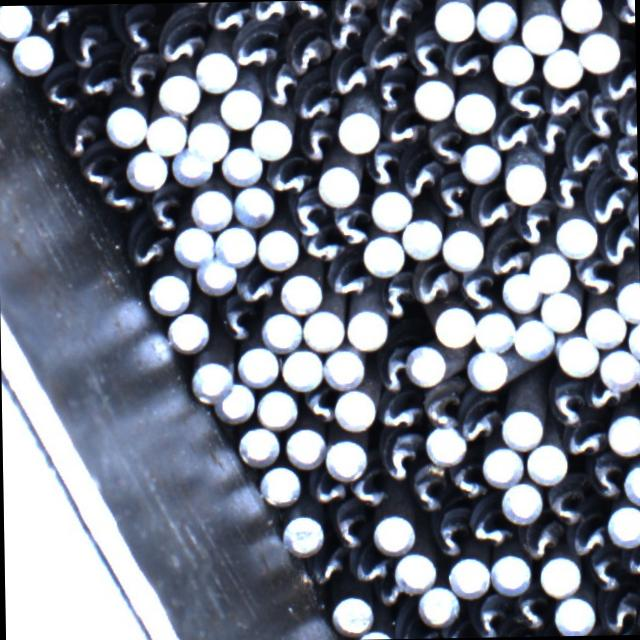tool: (278, 514, 326, 560), (186, 359, 234, 404), (253, 226, 301, 271), (554, 330, 599, 376), (10, 30, 55, 76), (102, 103, 147, 148), (335, 108, 380, 153), (188, 188, 232, 234), (402, 342, 446, 387), (373, 511, 417, 556), (328, 593, 372, 638), (369, 186, 412, 232), (248, 119, 294, 162), (489, 42, 536, 84), (124, 148, 168, 192), (392, 548, 436, 592), (194, 48, 238, 92), (503, 159, 546, 203), (464, 346, 508, 389), (432, 302, 474, 347), (598, 347, 640, 392), (452, 90, 495, 133), (577, 29, 620, 72), (157, 72, 200, 115), (441, 227, 484, 270), (317, 162, 360, 205), (167, 313, 210, 356), (538, 288, 580, 332), (280, 346, 322, 390), (555, 213, 597, 257), (528, 248, 570, 292), (360, 232, 402, 276), (236, 344, 280, 386), (552, 594, 596, 636), (217, 144, 262, 185), (511, 316, 553, 359), (412, 75, 454, 118), (195, 256, 238, 298), (322, 346, 364, 389), (237, 424, 280, 466), (147, 271, 189, 314), (172, 223, 214, 266), (144, 111, 185, 155), (214, 381, 255, 425), (499, 269, 539, 314), (539, 46, 581, 88), (260, 308, 302, 350), (518, 10, 560, 52), (302, 308, 344, 350), (584, 304, 626, 346), (255, 386, 297, 428), (219, 86, 261, 128), (400, 216, 442, 258), (186, 116, 228, 158), (499, 407, 542, 448), (447, 555, 490, 596), (333, 387, 374, 430), (474, 308, 514, 352), (344, 310, 388, 350), (525, 442, 566, 484), (501, 480, 542, 522), (214, 223, 255, 265), (258, 464, 300, 505), (490, 552, 531, 594), (282, 425, 322, 468), (279, 272, 319, 315), (234, 182, 274, 225), (537, 554, 580, 594), (324, 436, 365, 477), (481, 444, 523, 484), (475, 0, 517, 40), (433, 0, 475, 40), (424, 426, 466, 466), (604, 503, 640, 548), (460, 140, 500, 180), (418, 584, 458, 624), (171, 148, 212, 186), (605, 411, 640, 454), (559, 0, 602, 30), (614, 276, 640, 320), (0, 5, 32, 40), (622, 460, 640, 502)
tool_b: (124, 214, 167, 270), (64, 18, 112, 68), (160, 9, 202, 66), (282, 22, 328, 72), (562, 416, 612, 462), (469, 498, 511, 552), (484, 228, 530, 277), (228, 20, 276, 66), (376, 430, 423, 476), (119, 50, 160, 101), (378, 271, 418, 323), (471, 182, 516, 228), (329, 198, 372, 246), (116, 2, 158, 50), (286, 190, 328, 238), (216, 296, 258, 344), (584, 454, 626, 502), (568, 255, 616, 297), (584, 176, 626, 224), (328, 52, 373, 96), (413, 260, 456, 306), (327, 505, 373, 548), (80, 138, 118, 190), (434, 170, 472, 222), (144, 183, 186, 230), (583, 92, 624, 140), (401, 147, 438, 200), (458, 400, 502, 444), (516, 518, 560, 562), (457, 270, 499, 316), (547, 483, 593, 525), (432, 506, 471, 555), (262, 158, 308, 199), (58, 112, 100, 156), (322, 257, 370, 295), (548, 379, 586, 427), (42, 66, 78, 116), (260, 60, 296, 110), (376, 389, 422, 428), (82, 58, 120, 105), (598, 226, 640, 268), (361, 30, 405, 70), (562, 521, 612, 556), (296, 118, 334, 164), (424, 120, 461, 167), (564, 131, 606, 172), (469, 592, 506, 638), (412, 462, 446, 512), (450, 459, 490, 501), (510, 589, 550, 631), (362, 144, 400, 188), (408, 32, 447, 74), (422, 386, 460, 429), (298, 78, 332, 126), (606, 136, 638, 184), (374, 69, 408, 114), (235, 270, 280, 304), (298, 390, 336, 430), (375, 0, 416, 37), (348, 472, 390, 508), (447, 43, 489, 78), (581, 381, 625, 414), (102, 177, 140, 215), (548, 169, 584, 209), (596, 66, 636, 102), (381, 114, 424, 147), (298, 230, 342, 262), (585, 552, 620, 592), (350, 548, 391, 582), (36, 4, 84, 33), (521, 201, 551, 247), (602, 598, 638, 636), (532, 118, 568, 156), (306, 552, 346, 586), (378, 346, 408, 390), (206, 1, 248, 32), (491, 118, 528, 152), (324, 17, 360, 51), (544, 89, 583, 119), (308, 474, 346, 504), (332, 0, 371, 26), (290, 0, 329, 23), (372, 584, 405, 610), (252, 0, 286, 22), (624, 545, 640, 578)
